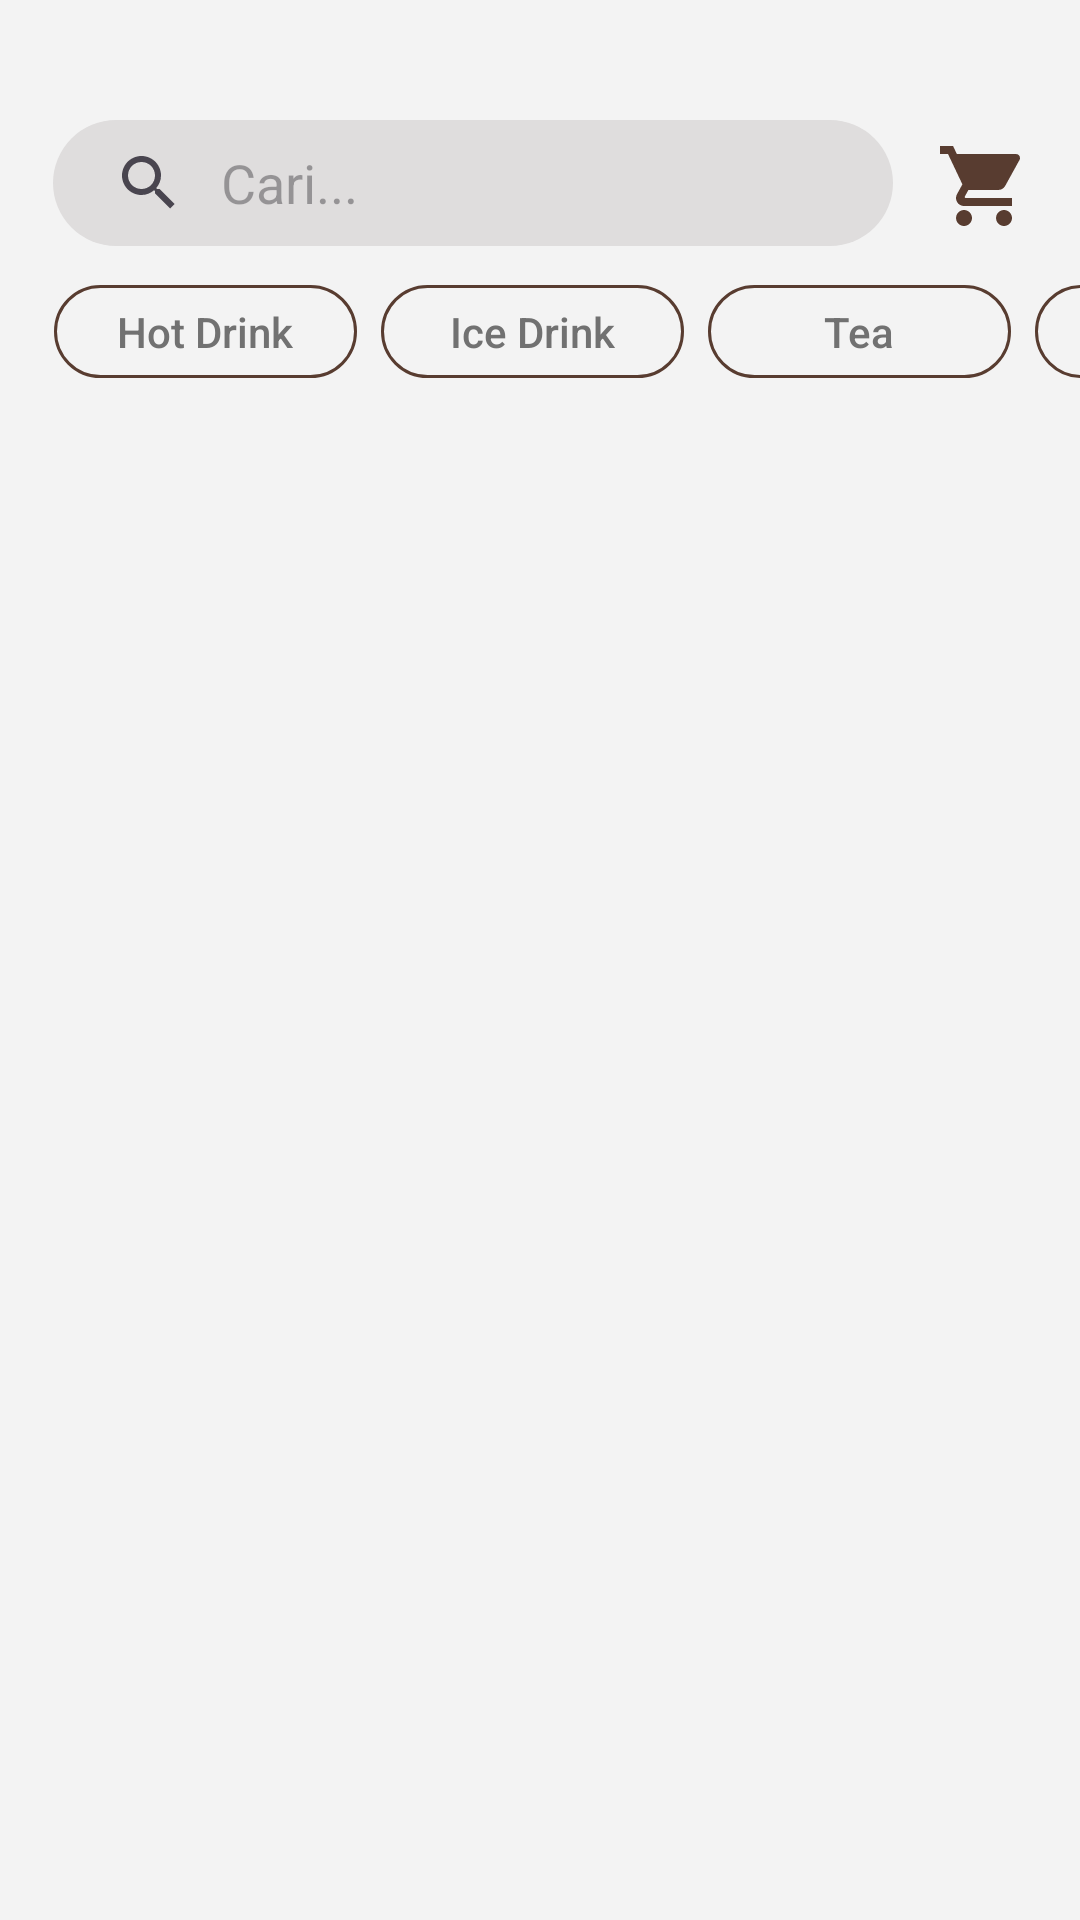

Where icons sit on this 1080px x 1920px app screen, as (x1, y1, x2, y2):
cart: (940, 146, 1020, 226)
